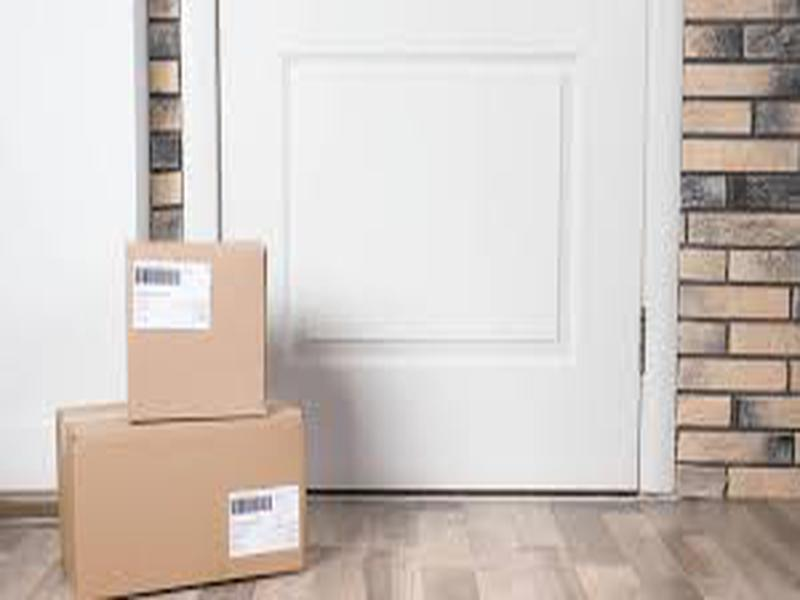package: (49, 390, 315, 586), (116, 229, 280, 430)
